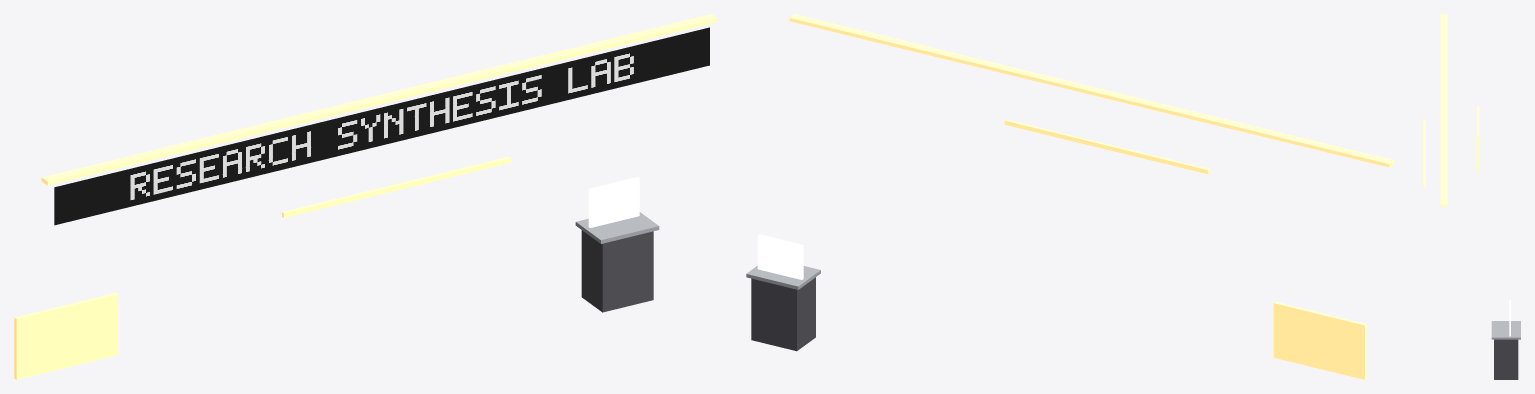
Rendered from room-s33-infogurus-2.glb.
The picture shows the model from 3 angles, left to right: view 1: azimuth 30°, elevation 25°; view 2: azimuth 150°, elevation 25°; view 3: azimuth 270°, elevation 25°; orthographic projection. The views are drawn at different scales.
Parts seen in each view (by area): view 1: InfoGurus Research Synthesis Lab room; view 2: InfoGurus Research Synthesis Lab room; view 3: InfoGurus Research Synthesis Lab room.
Boxes of the visible parts, x1,y1,x2,y2 form: InfoGurus Research Synthesis Lab room: (14, 14, 717, 379); InfoGurus Research Synthesis Lab room: (746, 14, 1394, 379); InfoGurus Research Synthesis Lab room: (1423, 14, 1520, 379).
Bounding box in the file's own units: 9.2 × 4.08 × 2.
5 materials, 1 textured.
